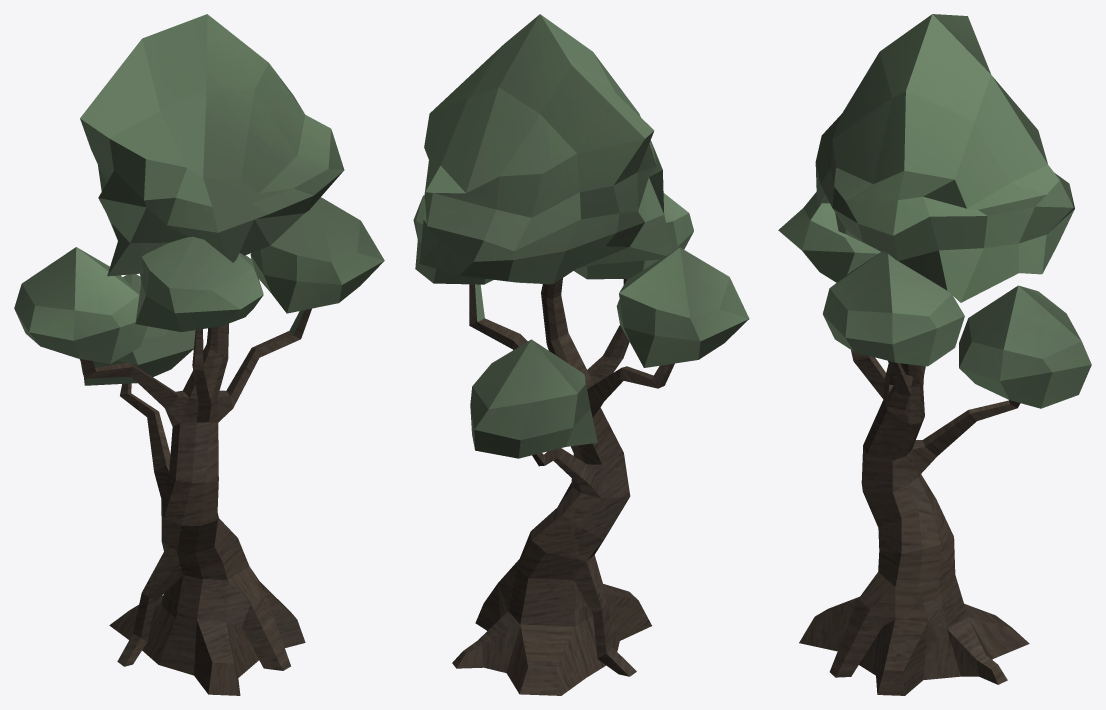
The model's file is WOOD2.FBX.
The picture shows the model from 3 angles, left to right: view 1: azimuth 30°, elevation 25°; view 2: azimuth 150°, elevation 25°; view 3: azimuth 270°, elevation 25°; orthographic projection. The views are drawn at different scales.
Parts seen in each view (by area): view 1: Cube.001; view 2: Cube.001; view 3: Cube.001.
Part boxes in pixels (x1,y1,x2,y2): Cube.001: (14, 14, 384, 695); Cube.001: (413, 14, 749, 695); Cube.001: (778, 14, 1091, 695).
Bounding box in the file's own units: 194 × 347 × 153.
1 material, 1 textured.
